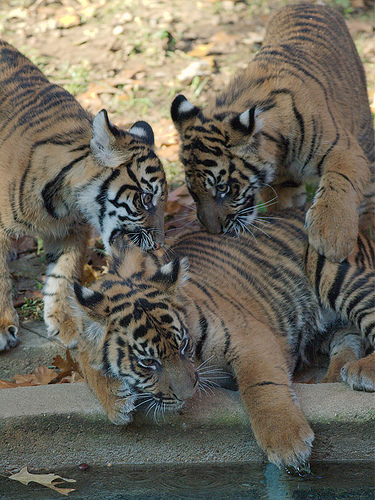Tigre: (63, 275, 296, 474), (182, 14, 375, 241), (7, 26, 171, 272)
